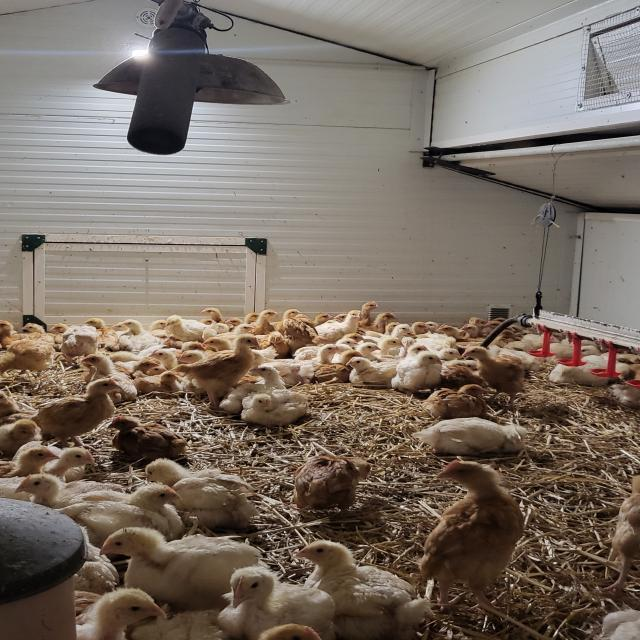poussin: (419, 458, 520, 612), (97, 524, 259, 608), (296, 542, 431, 638), (222, 564, 336, 640), (142, 456, 262, 528), (76, 481, 187, 545), (34, 377, 122, 444), (13, 472, 124, 522), (187, 333, 262, 406), (408, 416, 531, 456), (294, 454, 371, 516), (601, 476, 640, 595), (79, 588, 167, 640), (103, 415, 189, 462), (462, 346, 532, 402), (0, 319, 55, 382), (221, 364, 288, 412), (0, 444, 58, 498), (241, 388, 312, 428), (390, 344, 448, 392), (78, 354, 136, 399), (424, 380, 489, 416), (44, 444, 100, 484), (47, 324, 103, 364), (282, 343, 338, 381), (550, 358, 630, 383), (119, 318, 169, 356), (87, 316, 132, 354), (0, 417, 46, 454), (225, 308, 279, 339), (316, 302, 362, 338), (152, 349, 198, 384), (343, 357, 400, 384), (316, 349, 363, 381), (163, 316, 217, 342), (279, 308, 311, 351), (470, 315, 521, 339), (438, 322, 487, 346), (380, 320, 412, 356), (536, 338, 584, 361), (580, 343, 636, 362), (134, 372, 180, 394), (362, 306, 395, 332), (199, 308, 229, 334), (506, 332, 547, 349), (438, 348, 474, 366), (410, 321, 438, 343), (346, 339, 378, 358), (356, 298, 376, 328), (0, 392, 21, 416)
